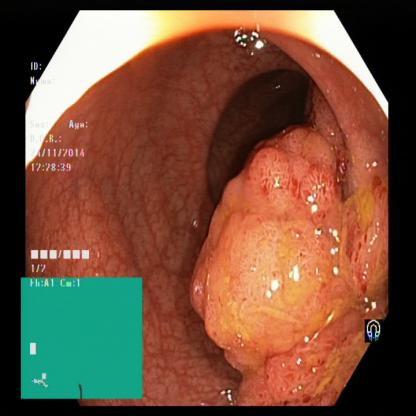Labels: (25, 50, 128, 275), (21, 277, 144, 397), (364, 303, 392, 352)
Polyps: (184, 119, 342, 364)
